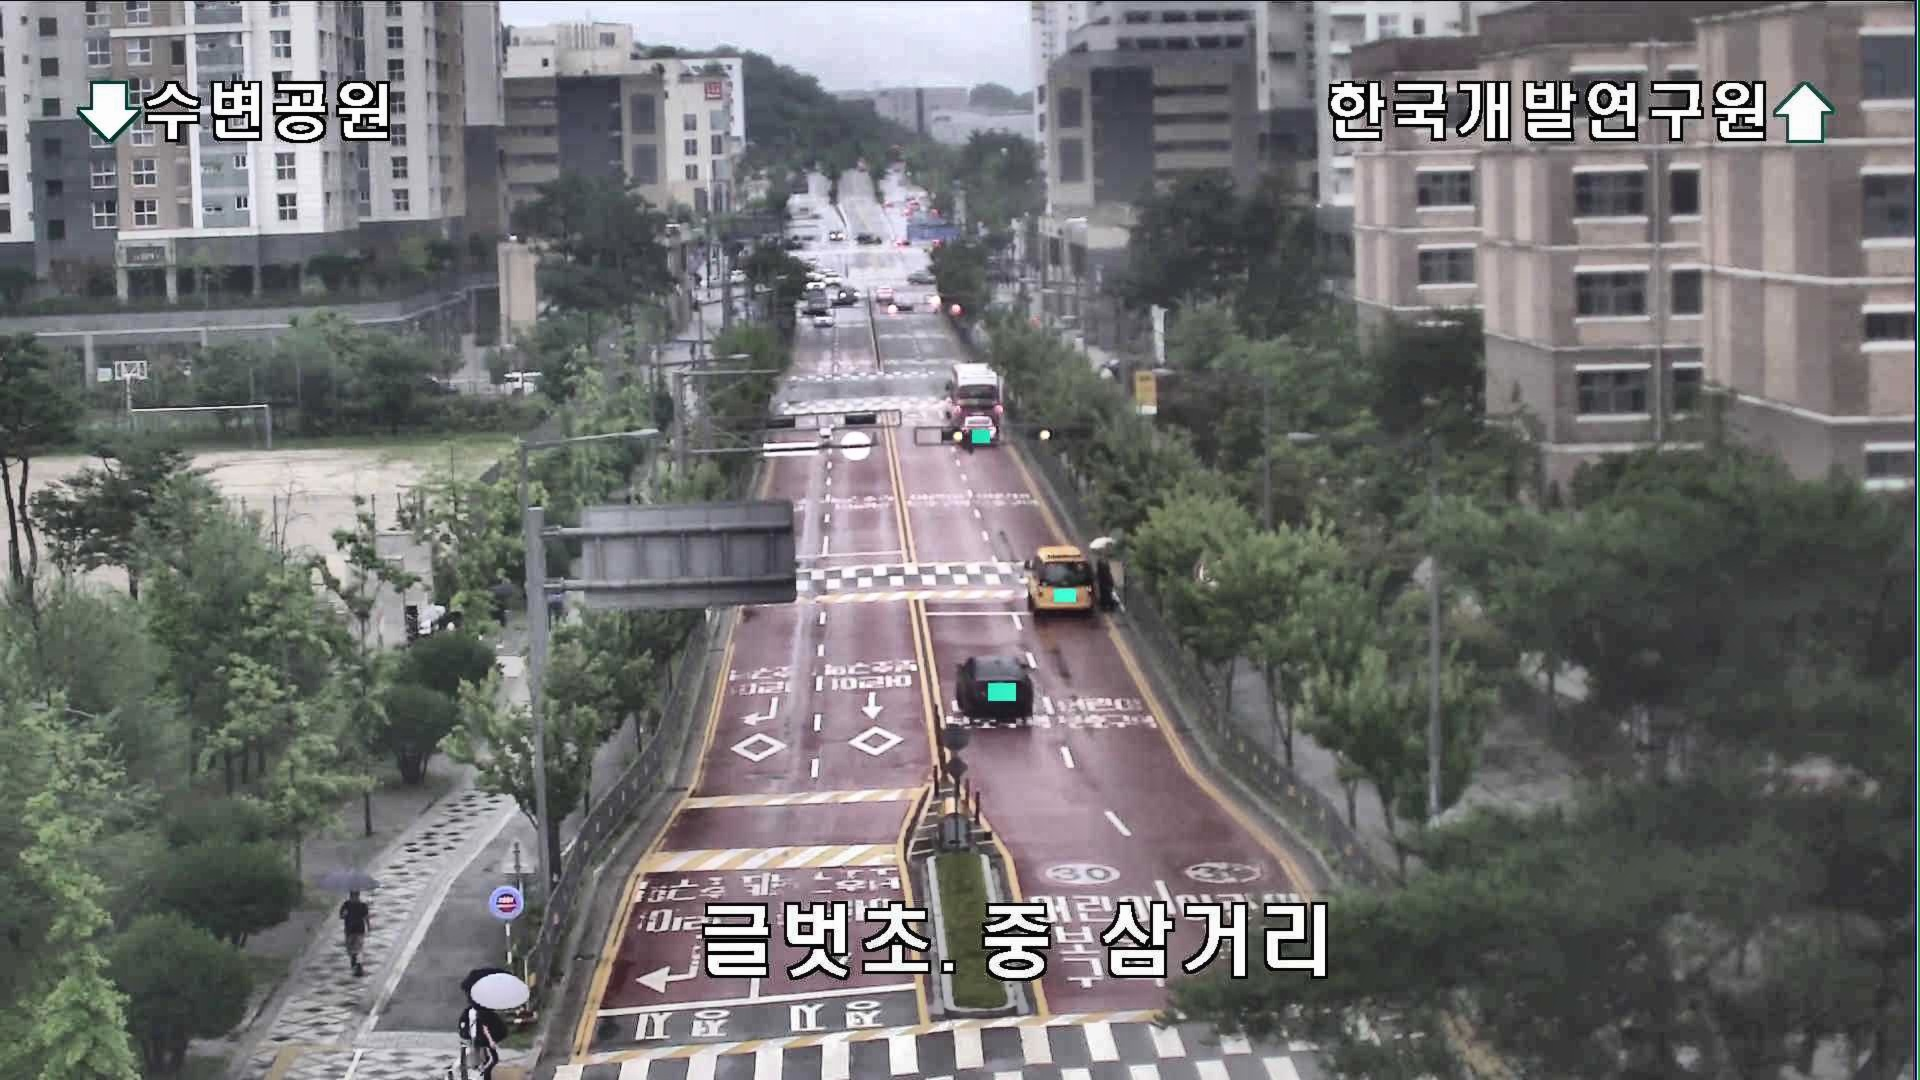um_jaywalk: (1085, 535, 1124, 616)
um_sidewalk: (462, 975, 530, 1080), (320, 870, 378, 978)
